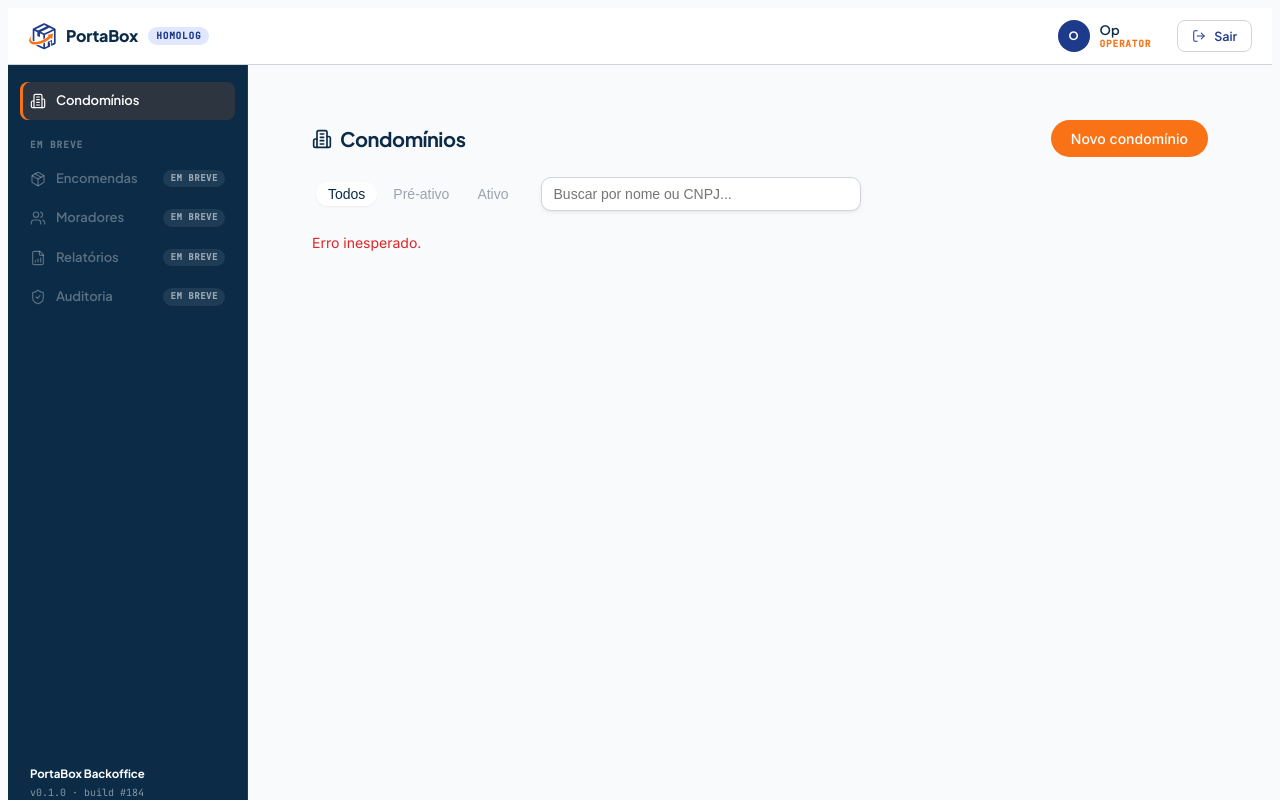
Scenario: Auth integration › redirects to /login after logout
Expected: the heading reads "Condomínios", [340,126,466,150]
What coordinates should you click on to do the following:
click the button "Sair"
I would click on:
 (1215, 36)
Its box is [1177,20,1252,52].
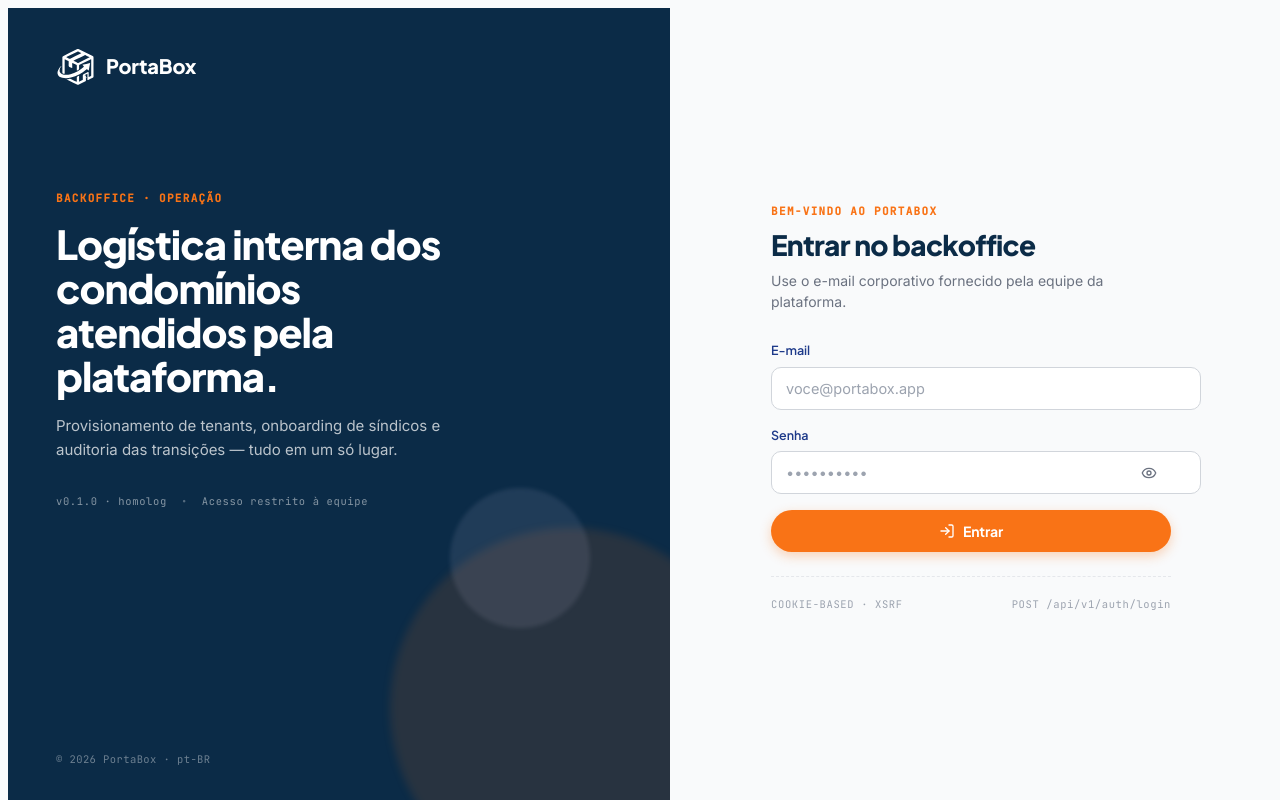
Now the heading "Entrar no backoffice" is shown, box [771,227,1035,262]
